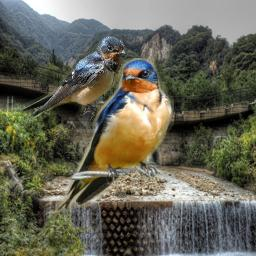Swallow: (56, 58, 174, 212), (15, 36, 127, 131)
